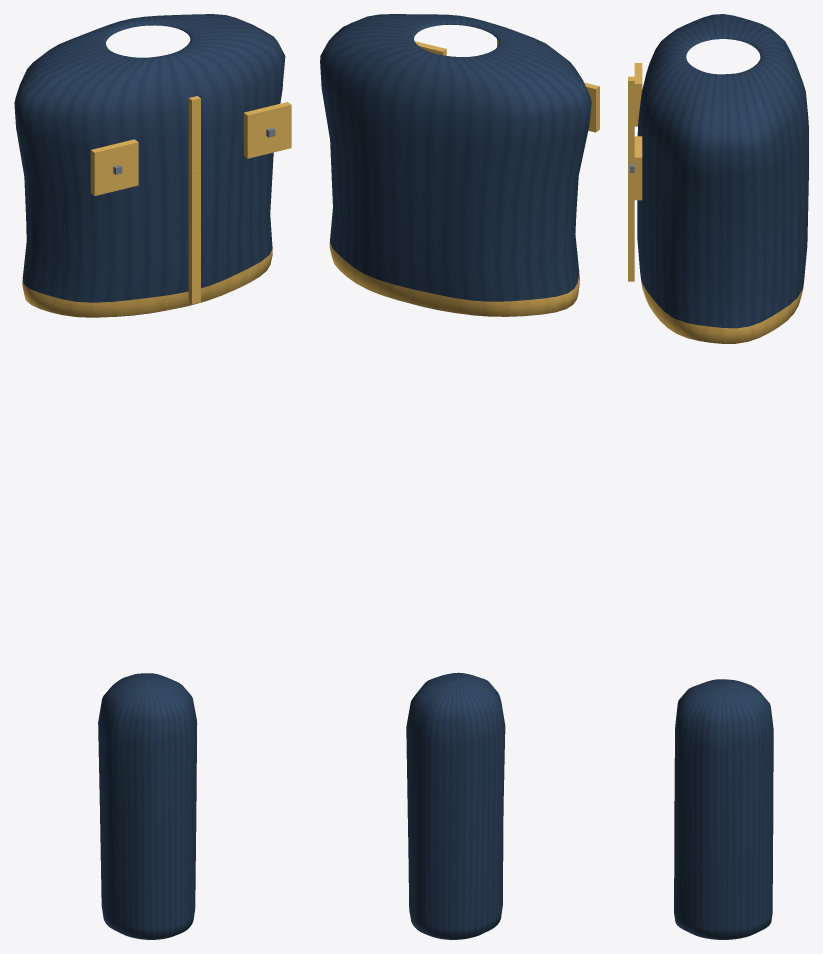
The model's file is reference_denim_jacket.gltf.
3 views of the same model, side by side, from view 1: azimuth 30°, elevation 25°; view 2: azimuth 150°, elevation 25°; view 3: azimuth 270°, elevation 25° (orthographic).
Visible parts, largest first — view 1: Torso, SleeveL; view 2: Torso, SleeveL; view 3: Torso, SleeveL.
Boxes of the visible parts, left/top/right/bottom form: Torso: left=14, top=14, right=291, bottom=317; SleeveL: left=98, top=673, right=197, bottom=939; Torso: left=320, top=14, right=599, bottom=316; SleeveL: left=406, top=672, right=505, bottom=939; Torso: left=628, top=14, right=808, bottom=343; SleeveL: left=674, top=679, right=773, bottom=939.
Bounding box in the file's own units: 0.5276 × 1.73 × 0.3266.
3 materials, 3 textured.
